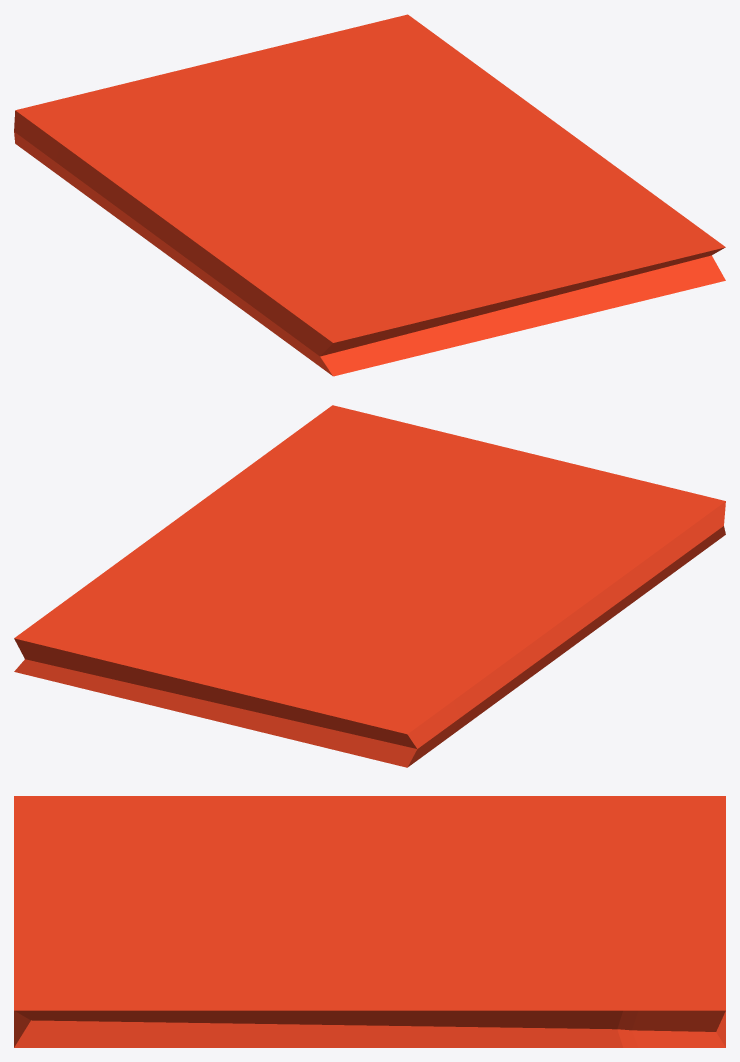
File: SM_Newspaper_B_City.fbx
3 views of the same model, one above another, from view 1: azimuth 30°, elevation 25°; view 2: azimuth 150°, elevation 25°; view 3: azimuth 270°, elevation 25° (orthographic). The views are drawn at different scales.
Parts seen in each view (by area): view 1: SM_Newspaper_B_City; view 2: SM_Newspaper_B_City; view 3: SM_Newspaper_B_City.
Boxes of the visible parts, left/top/right/bottom form: SM_Newspaper_B_City: left=14, top=14, right=725, bottom=376; SM_Newspaper_B_City: left=14, top=405, right=725, bottom=767; SM_Newspaper_B_City: left=14, top=796, right=725, bottom=1047.
Bounding box in the file's own units: 0.2796 × 0.0224 × 0.3867.
